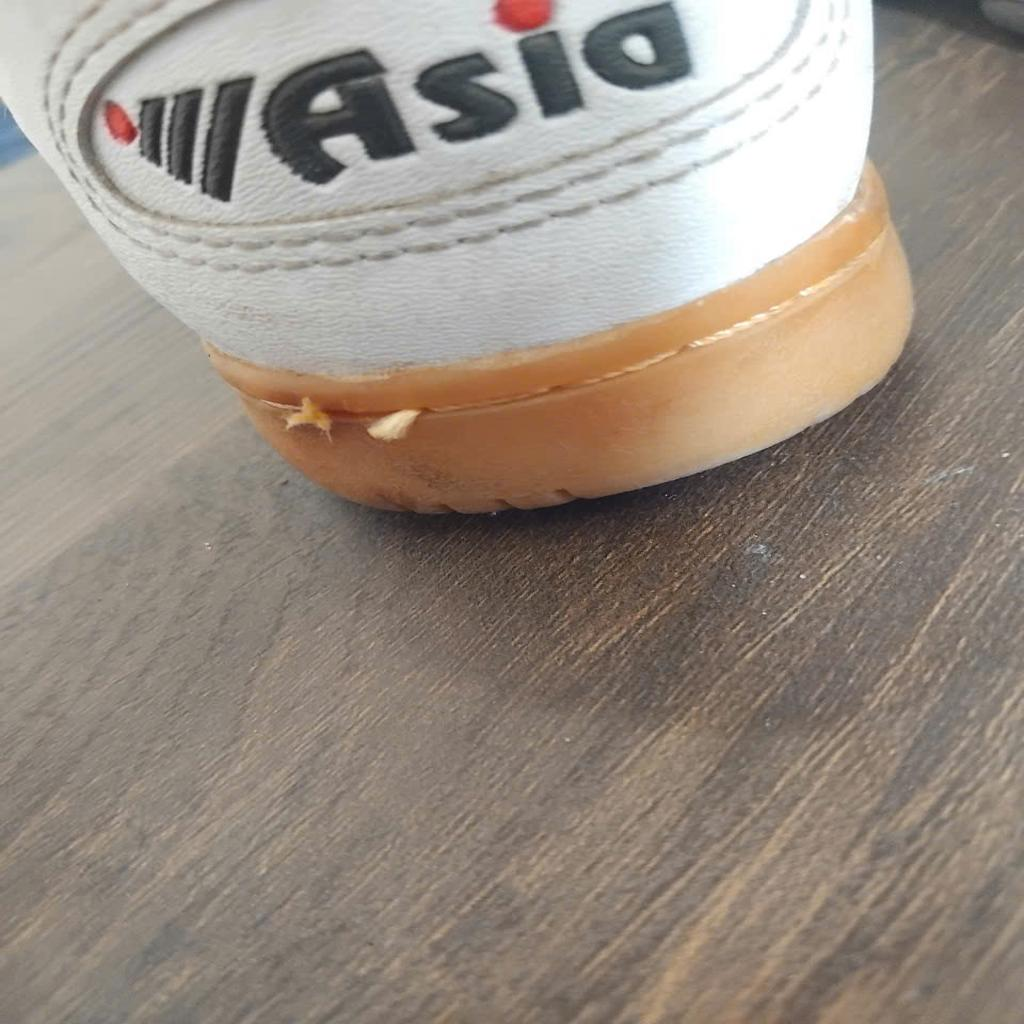broken: (281, 395, 427, 456)
